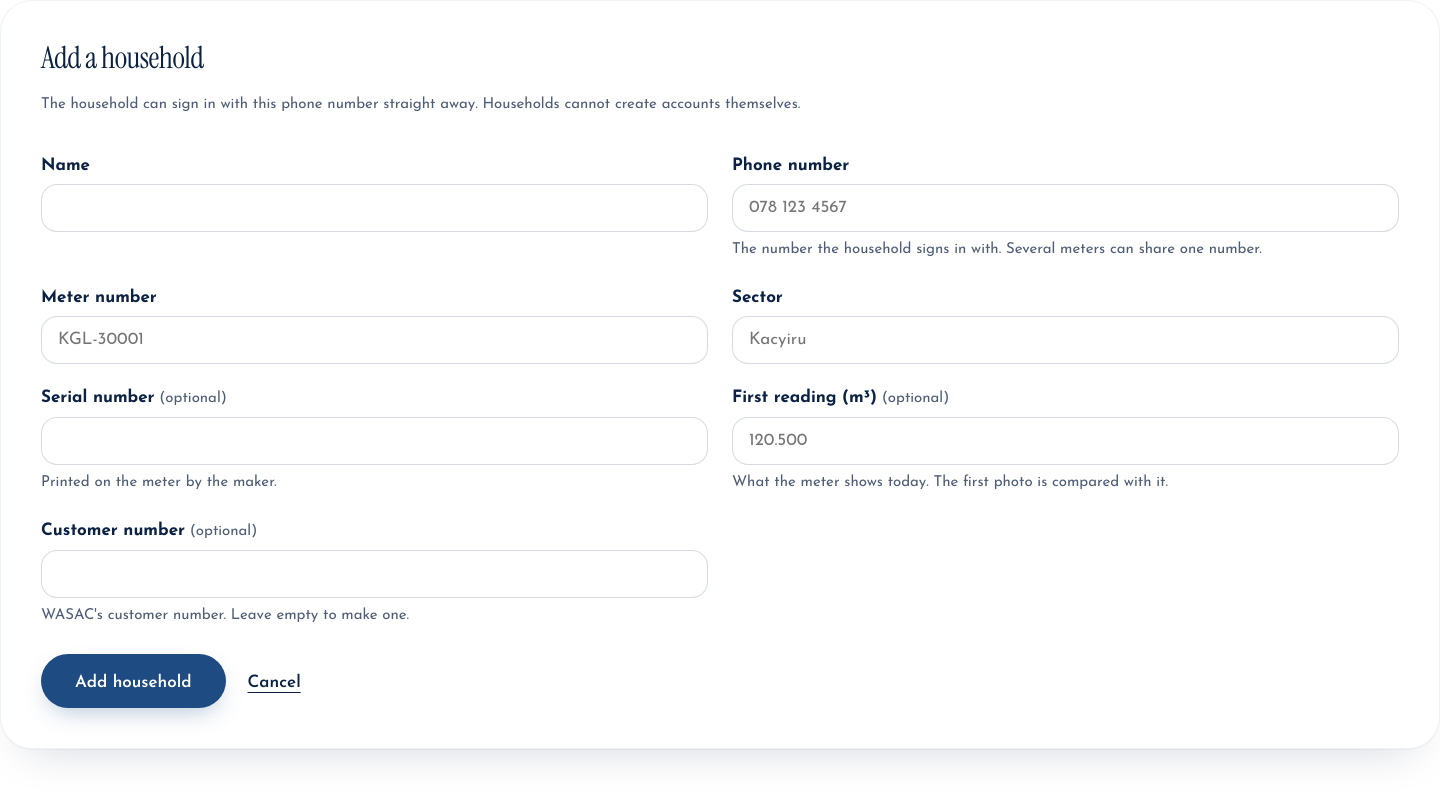
HouseholdForm › when fields are wrong, should say what to fix next to each one and send nothing
In the field labelled "Name": (374, 208) [41, 184, 708, 232], type "A"
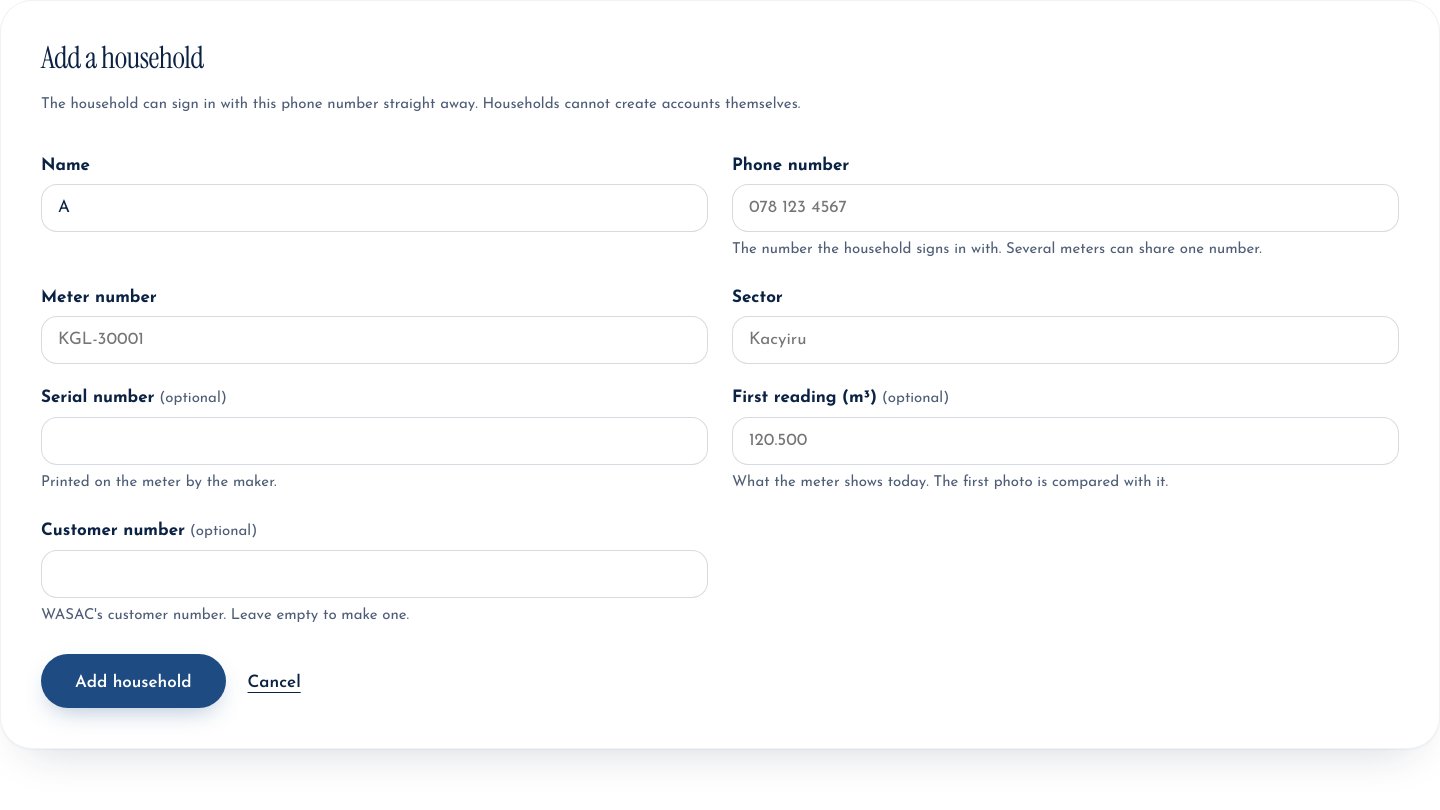
In the field labelled "Phone number": (1066, 208) [732, 184, 1399, 232], type "12345"
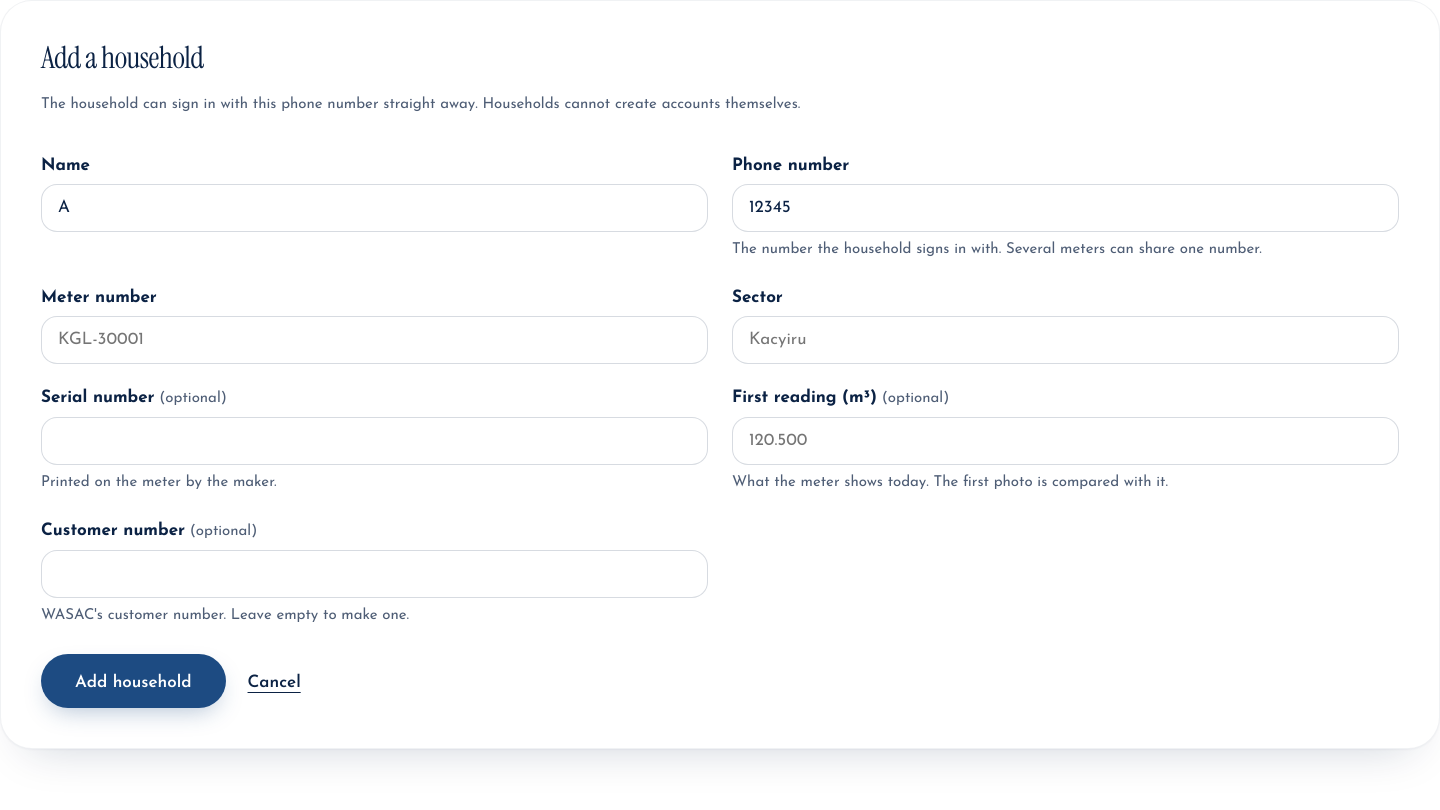
In the field labelled "Meter number": (374, 340) [41, 316, 708, 364], type "DEMO-1"
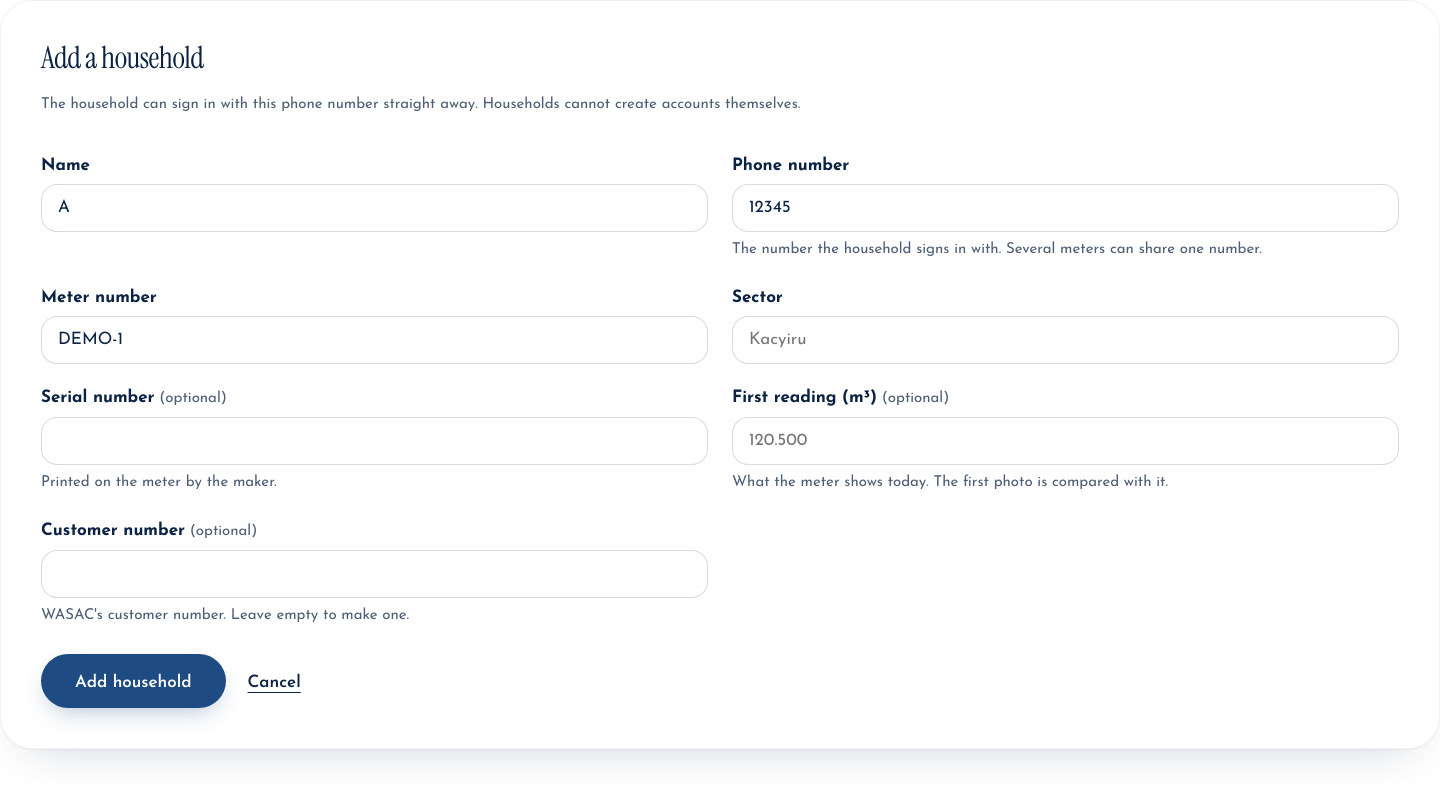
Click the button "Add household": (133, 681) [41, 654, 226, 708]
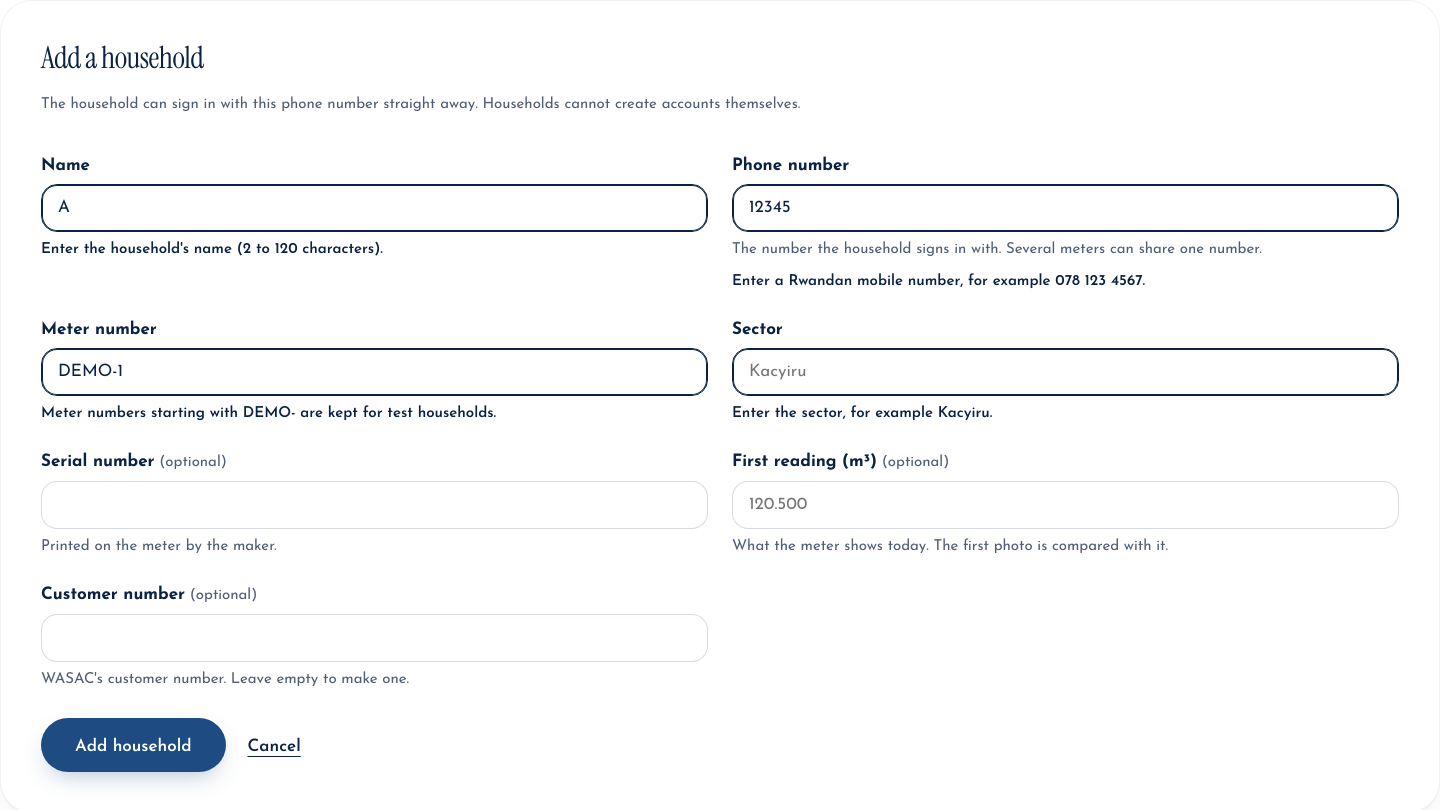
Now the text "Enter a Rwandan mobile number, for example 078 123 4567." is shown, box [732, 274, 1145, 289]
Now the text "kept for test households" is shown, box [41, 406, 496, 421]
